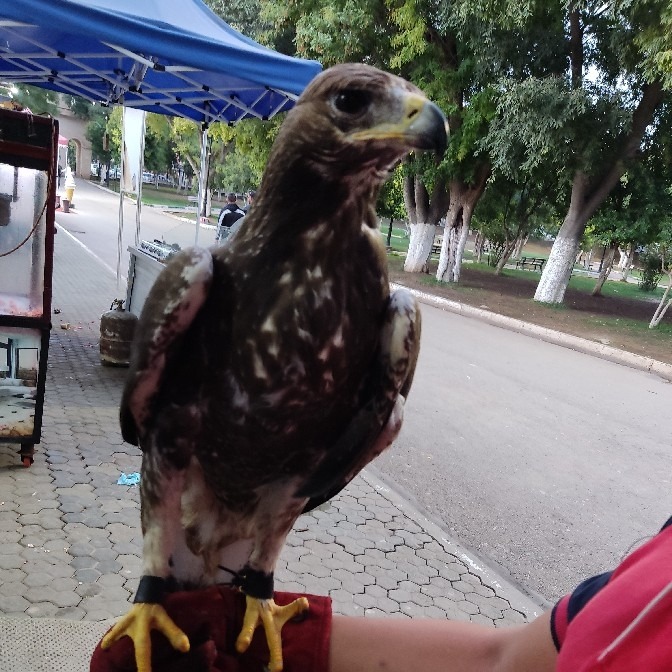Not_a_Chicken: (114, 52, 484, 658)
